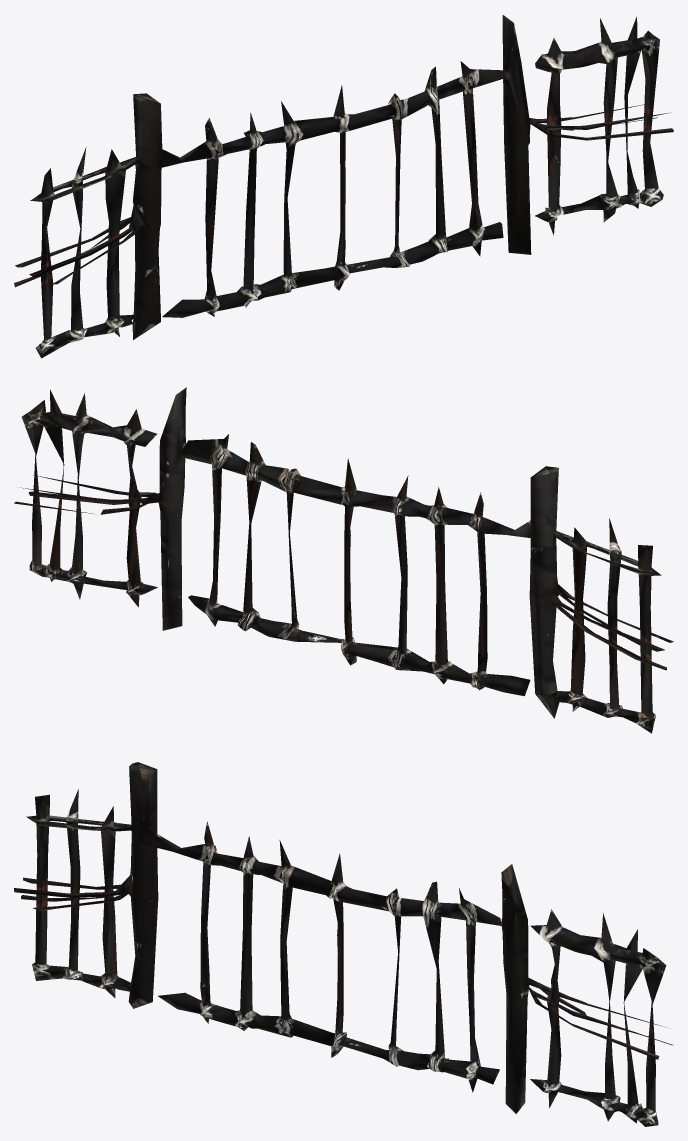
The model's file is barrier.glb.
The picture shows the model from 3 angles, top to bottom: view 1: azimuth 30°, elevation 25°; view 2: azimuth 150°, elevation 25°; view 3: azimuth 330°, elevation 25°; orthographic projection.
Bounding box in the file's own units: 1.9 × 0.695 × 0.0855.
Materials: 1 (1 with a texture image).
